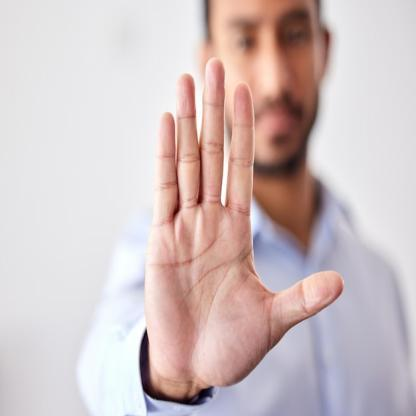stop: (146, 52, 347, 395)
